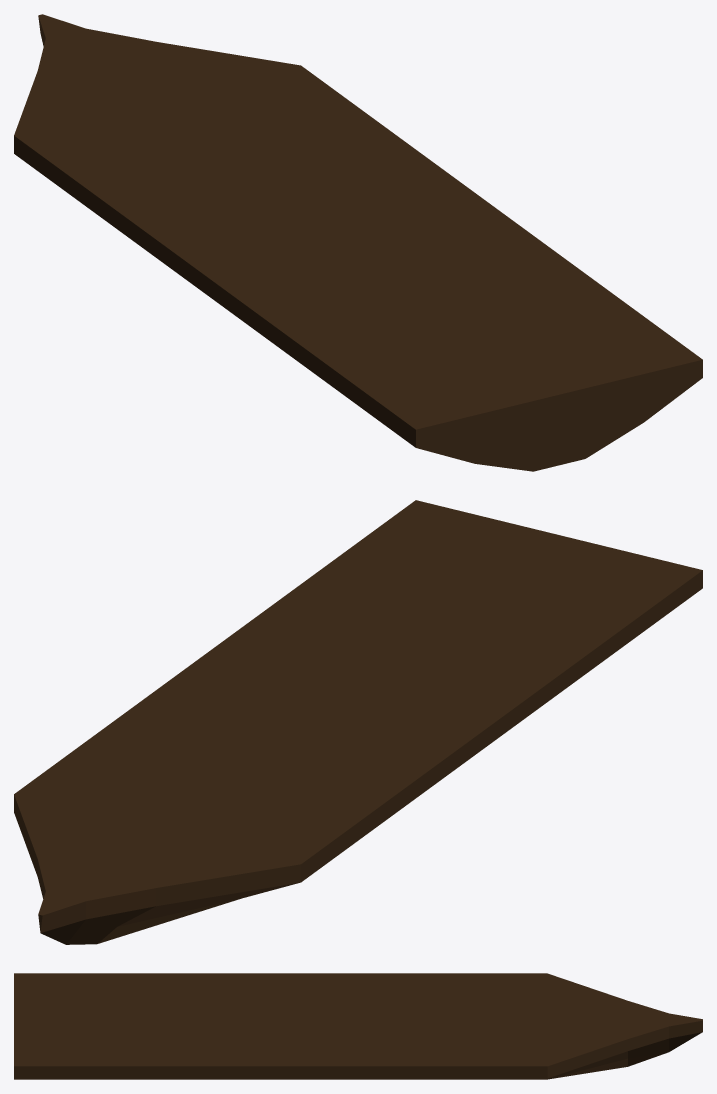
The model's file is cascoBarco.fbx.
3 renders of one model, top to bottom at view 1: azimuth 30°, elevation 25°; view 2: azimuth 150°, elevation 25°; view 3: azimuth 270°, elevation 25°, orthographic. The views are drawn at different scales.
Visible parts, largest first — view 1: Fundo Casco; view 2: Fundo Casco; view 3: Fundo Casco.
Part boxes in pixels (<box>): Fundo Casco: <box>14,14,702,471</box>; Fundo Casco: <box>14,500,702,944</box>; Fundo Casco: <box>14,973,702,1079</box>.
Size of the model in its own units: 3300 by 776 by 10331.
